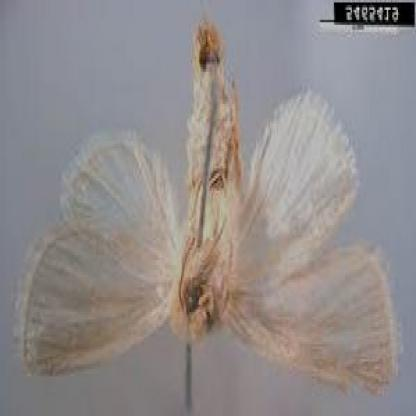stem-borer: (19, 34, 402, 400)
